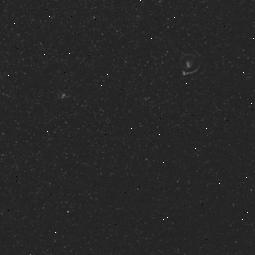debris: (173, 49, 205, 79)
